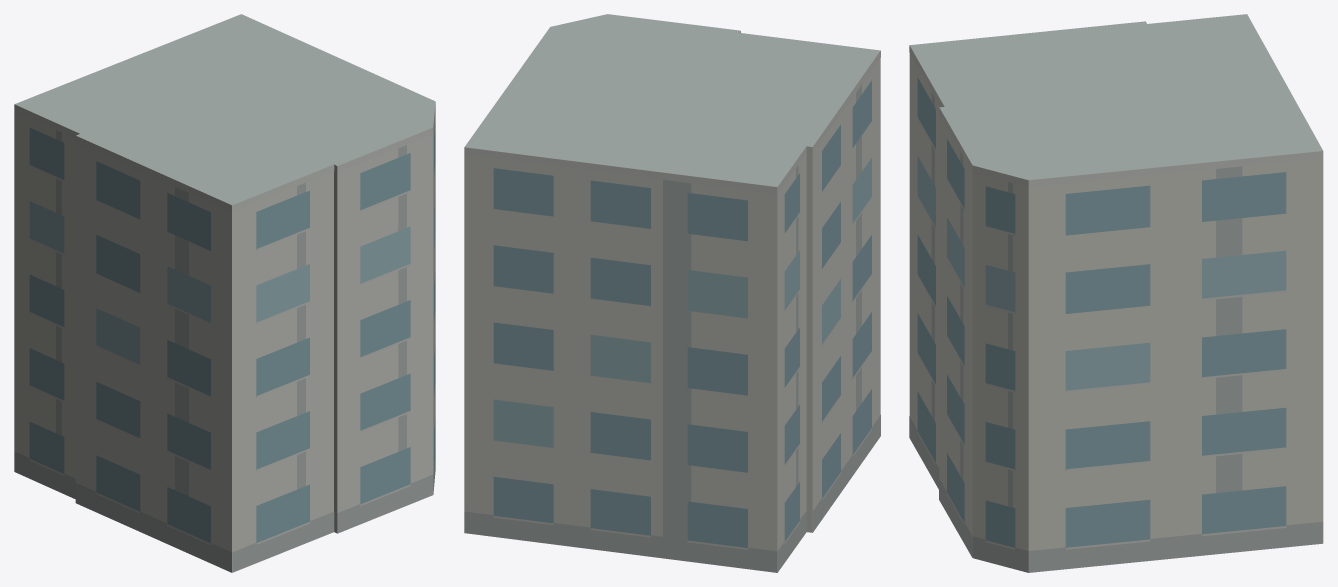
File: survey-upis-32839979.glb
3 renders of one model, left to right at view 1: azimuth 30°, elevation 25°; view 2: azimuth 150°, elevation 25°; view 3: azimuth 270°, elevation 25°, orthographic. The views are drawn at different scales.
Visible parts, largest first — view 1: survey-upis-32839979.tmp; view 2: survey-upis-32839979.tmp; view 3: survey-upis-32839979.tmp.
Boxes of the visible parts, left/top/right/bottom form: survey-upis-32839979.tmp: left=14, top=14, right=435, bottom=572; survey-upis-32839979.tmp: left=464, top=14, right=880, bottom=572; survey-upis-32839979.tmp: left=909, top=14, right=1323, bottom=572.
Size of the model in its own units: 11.9 by 13.1 by 12.53.
